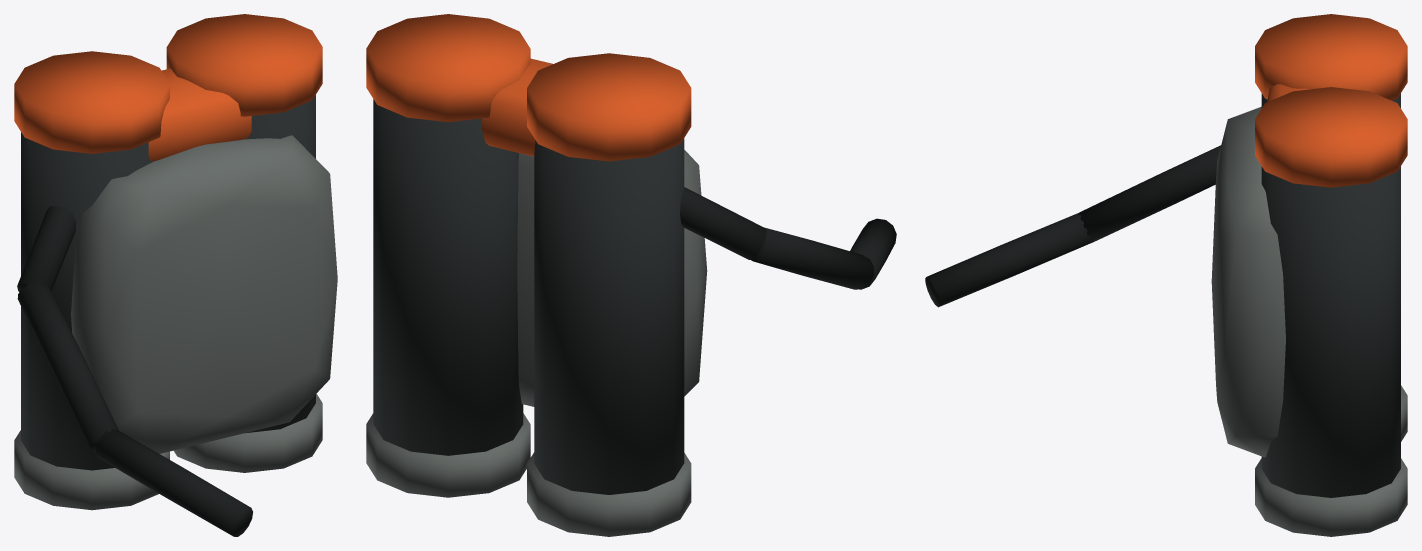
Rendered from Bastion_FlameTrooper_Gear.obj.
3 views of the same model, side by side, from view 1: azimuth 30°, elevation 25°; view 2: azimuth 150°, elevation 25°; view 3: azimuth 270°, elevation 25° (orthographic). The views are drawn at different scales.
Visible parts, largest first — view 1: TankFrame, FuelTankTop, FuelTank, FuelTankBottom, Hose1, Hose2, TankManifold, Hose0; view 2: FuelTank, FuelTankTop, FuelTankBottom, TankFrame, Hose1, Hose0, TankManifold, Hose2; view 3: FuelTank, FuelTankTop, TankFrame, FuelTankBottom, Hose2, Hose1.
Part boxes in pixels (<box>): TankFrame: <box>71,135,337,453</box>; FuelTankTop: <box>14,14,322,153</box>; FuelTank: <box>21,95,315,470</box>; FuelTankBottom: <box>14,394,322,510</box>; Hose1: <box>17,282,118,452</box>; Hose2: <box>95,429,252,536</box>; TankManifold: <box>148,68,251,161</box>; Hose0: <box>17,206,76,291</box>; FuelTank: <box>373,99,684,494</box>; FuelTankTop: <box>366,14,691,161</box>; FuelTankBottom: <box>366,413,691,536</box>; TankFrame: <box>517,150,707,406</box>; Hose1: <box>750,227,873,289</box>; Hose0: <box>680,187,766,259</box>; TankManifold: <box>481,58,552,156</box>; Hose2: <box>850,218,896,289</box>; FuelTank: <box>1261,93,1400,497</box>; FuelTankTop: <box>1255,14,1407,187</box>; TankFrame: <box>1211,106,1285,457</box>; FuelTankBottom: <box>1255,385,1407,536</box>; Hose2: <box>925,212,1092,307</box>; Hose1: <box>1077,145,1221,242</box>.
Size of the model in its own units: 0.5899 by 0.64 by 0.7261.
Materials: 1 (1 with a texture image).
